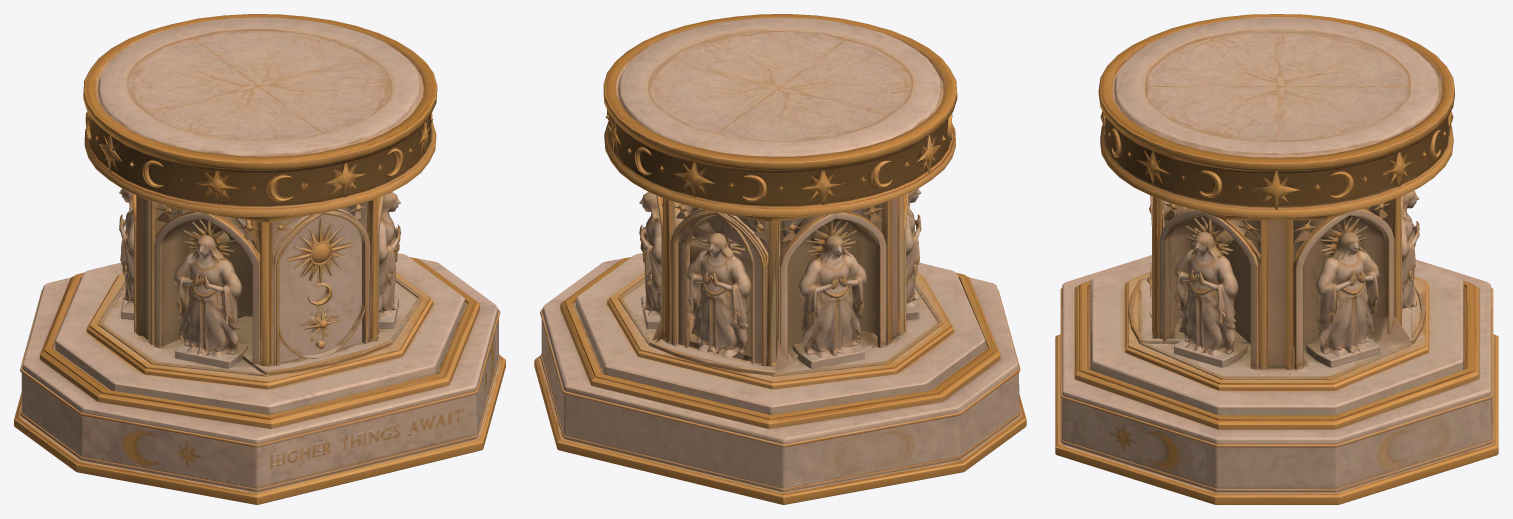
The model's file is sacred-colossus-base.glb.
The picture shows the model from 3 angles, left to right: view 1: azimuth 30°, elevation 25°; view 2: azimuth 150°, elevation 25°; view 3: azimuth 270°, elevation 25°; orthographic projection.
Visible parts, largest first — view 1: tripo_node_d916aed7-3e8a-4fd8-a57a-aac26c2812a8; view 2: tripo_node_d916aed7-3e8a-4fd8-a57a-aac26c2812a8; view 3: tripo_node_d916aed7-3e8a-4fd8-a57a-aac26c2812a8.
Part boxes in pixels (x1,y1,x2,y2): tripo_node_d916aed7-3e8a-4fd8-a57a-aac26c2812a8: (14, 14, 505, 504); tripo_node_d916aed7-3e8a-4fd8-a57a-aac26c2812a8: (534, 14, 1026, 504); tripo_node_d916aed7-3e8a-4fd8-a57a-aac26c2812a8: (1055, 14, 1498, 504).
Size of the model in its own units: 0.9995 by 0.6938 by 0.8862.
1 material, 1 textured.
